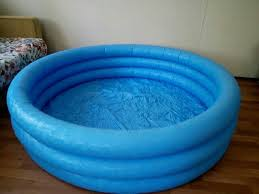havuz: (6, 44, 240, 194)
